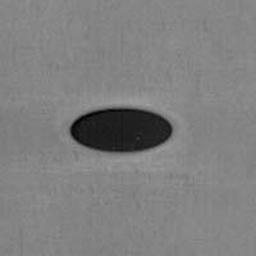Punching: (68, 106, 174, 154)
